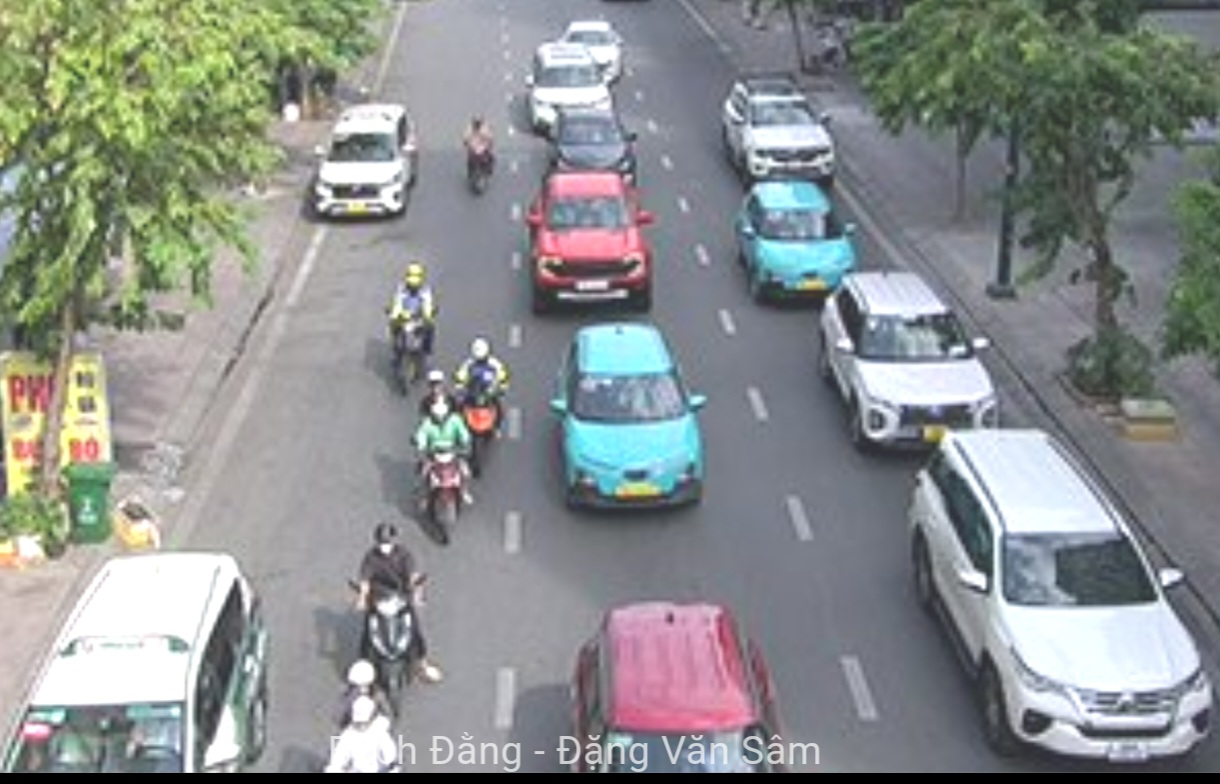car: (907, 441, 1215, 767), (9, 556, 275, 782), (569, 608, 798, 784), (820, 277, 1001, 454), (548, 322, 704, 514), (522, 174, 656, 311), (735, 188, 856, 303), (721, 78, 836, 184), (313, 100, 414, 218), (529, 44, 613, 116), (551, 111, 636, 176)
